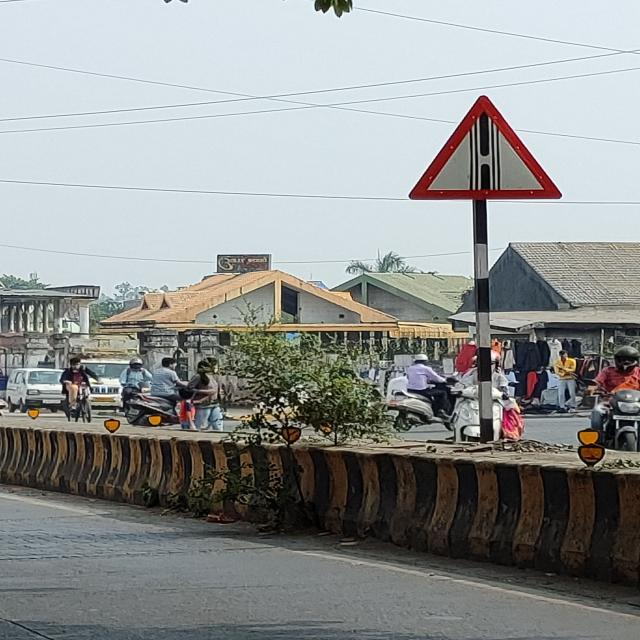gap in median: (402, 92, 564, 203)
